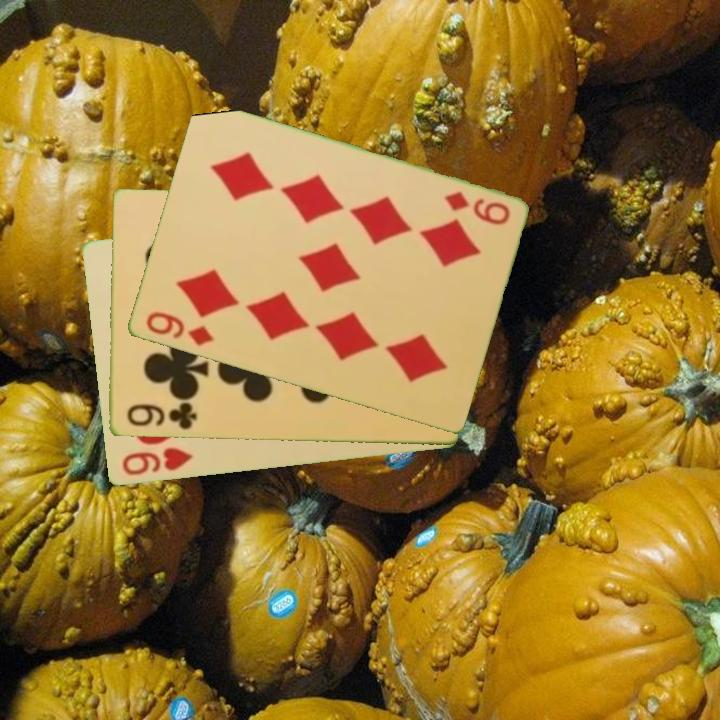9c: (123, 400, 200, 433)
9d: (142, 308, 216, 349), (440, 188, 513, 228)
9h: (118, 444, 195, 479)
